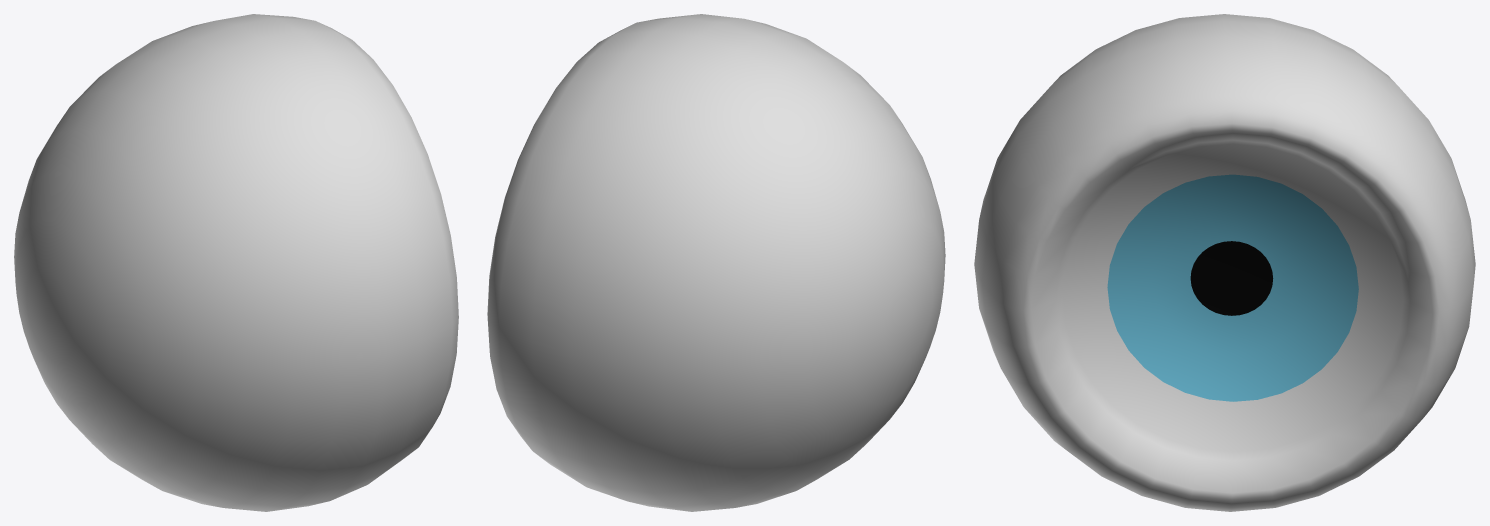
File: Ojos.fbx
3 renders of one model, left to right at view 1: azimuth 30°, elevation 25°; view 2: azimuth 150°, elevation 25°; view 3: azimuth 270°, elevation 25°, orthographic.
Visible parts, largest first — view 1: Sphere; view 2: Sphere; view 3: Sphere.
Part boxes in pixels (bbox=[...]): Sphere: bbox=[14, 14, 458, 511]; Sphere: bbox=[487, 14, 945, 511]; Sphere: bbox=[974, 14, 1475, 511].
Bounding box in the file's own units: 69.13 × 93.69 × 93.69.
